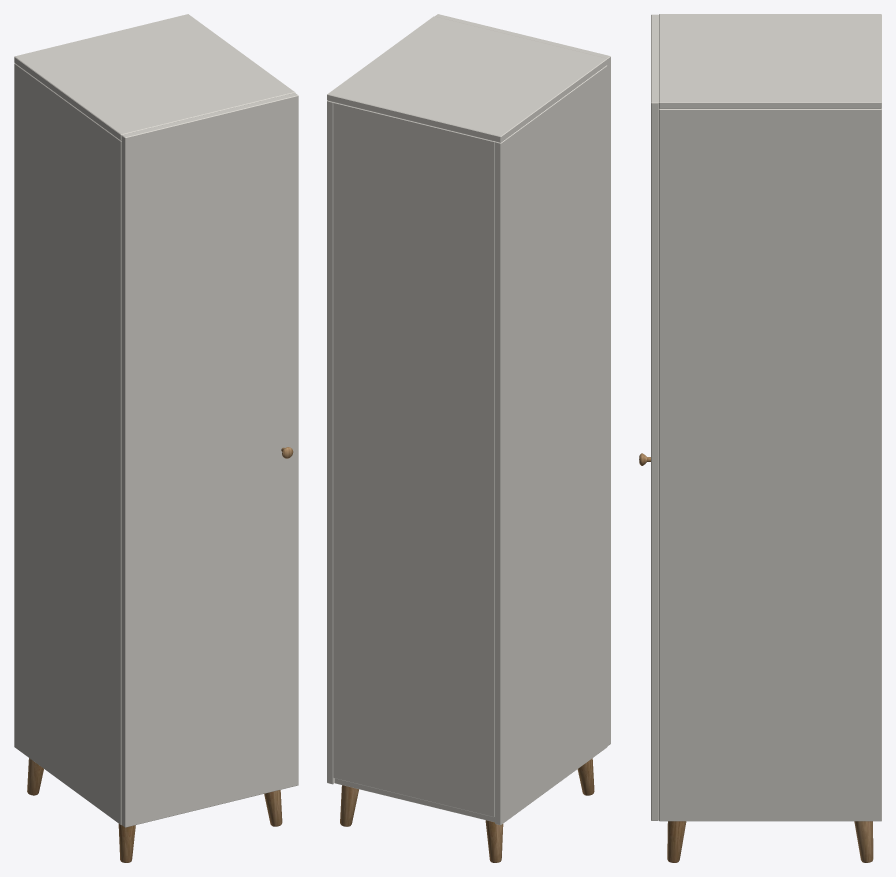
Rendered from armario_nordico_1p_50.glb.
3 views of the same model, side by side, from view 1: azimuth 30°, elevation 25°; view 2: azimuth 150°, elevation 25°; view 3: azimuth 270°, elevation 25° (orthographic). The views are drawn at different scales.
Visible parts, largest first — view 1: armario_nordico_1p_50; view 2: armario_nordico_1p_50; view 3: armario_nordico_1p_50.
Part boxes in pixels (box(x1,y1,x2,y2)): armario_nordico_1p_50: box(14, 14, 298, 862); armario_nordico_1p_50: box(327, 14, 610, 862); armario_nordico_1p_50: box(639, 14, 881, 862).
Bounding box in the file's own units: 0.4999 × 2.01 × 0.578.
Materials: 2 (1 with a texture image).
